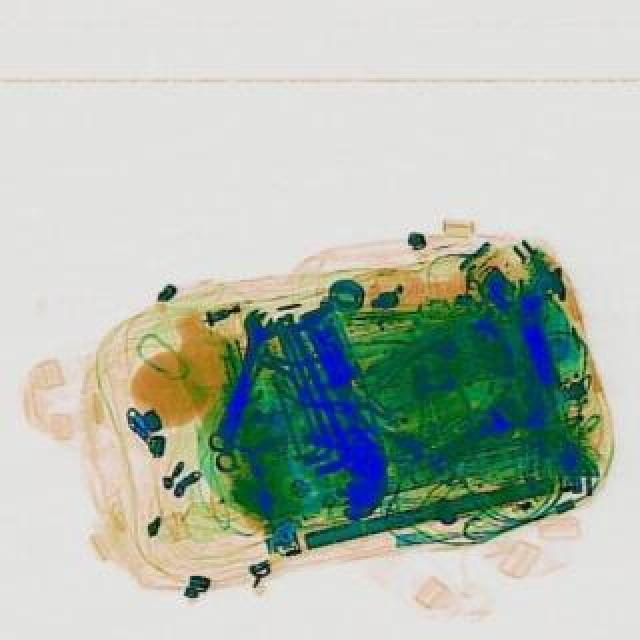scissors: (200, 306, 282, 474), (196, 306, 276, 452)
